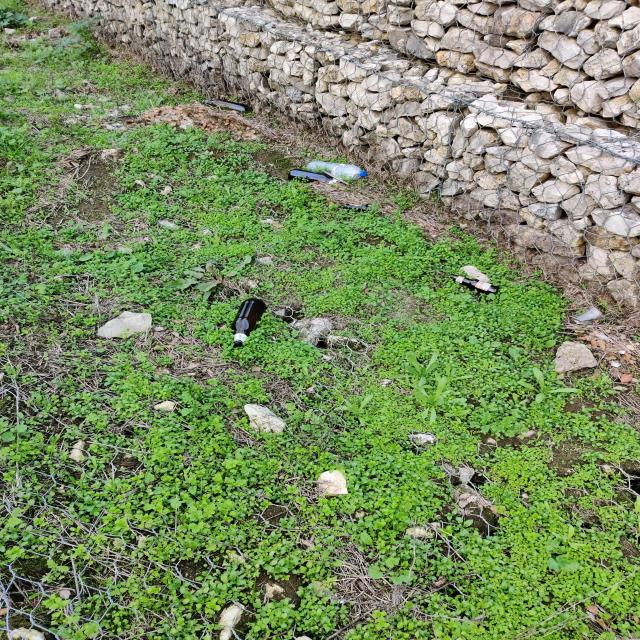litter: (212, 294, 275, 356), (285, 166, 356, 192), (447, 273, 504, 301), (302, 158, 364, 181), (196, 97, 258, 117), (568, 304, 610, 327), (340, 202, 384, 217), (357, 170, 368, 178)
